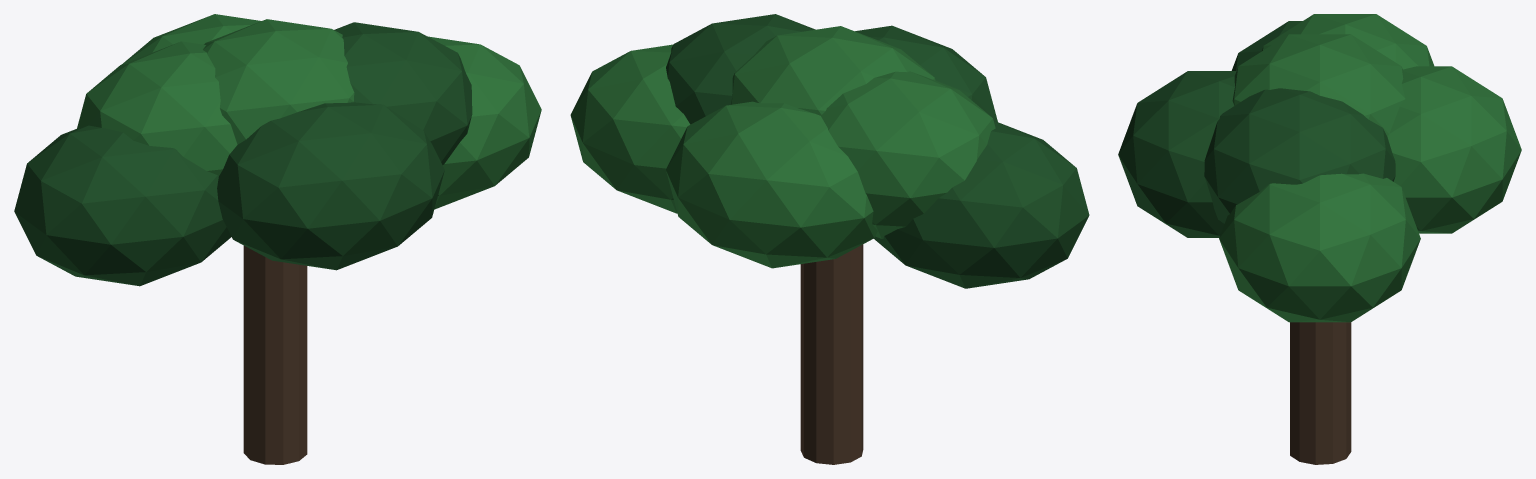
File: SM_MistForestSpreadingBeech_A.glb
3 views of the same model, side by side, from view 1: azimuth 30°, elevation 25°; view 2: azimuth 150°, elevation 25°; view 3: azimuth 270°, elevation 25° (orthographic). The views are drawn at different scales.
Visible parts, largest first — view 1: SM_MistForestSpreadingBeech_A; view 2: SM_MistForestSpreadingBeech_A; view 3: SM_MistForestSpreadingBeech_A.
Boxes of the visible parts, bbox=[...] form: SM_MistForestSpreadingBeech_A: bbox=[14, 14, 541, 464]; SM_MistForestSpreadingBeech_A: bbox=[570, 14, 1089, 464]; SM_MistForestSpreadingBeech_A: bbox=[1118, 14, 1521, 464].
Bounding box in the file's own units: 10.97 × 8.9 × 8.
